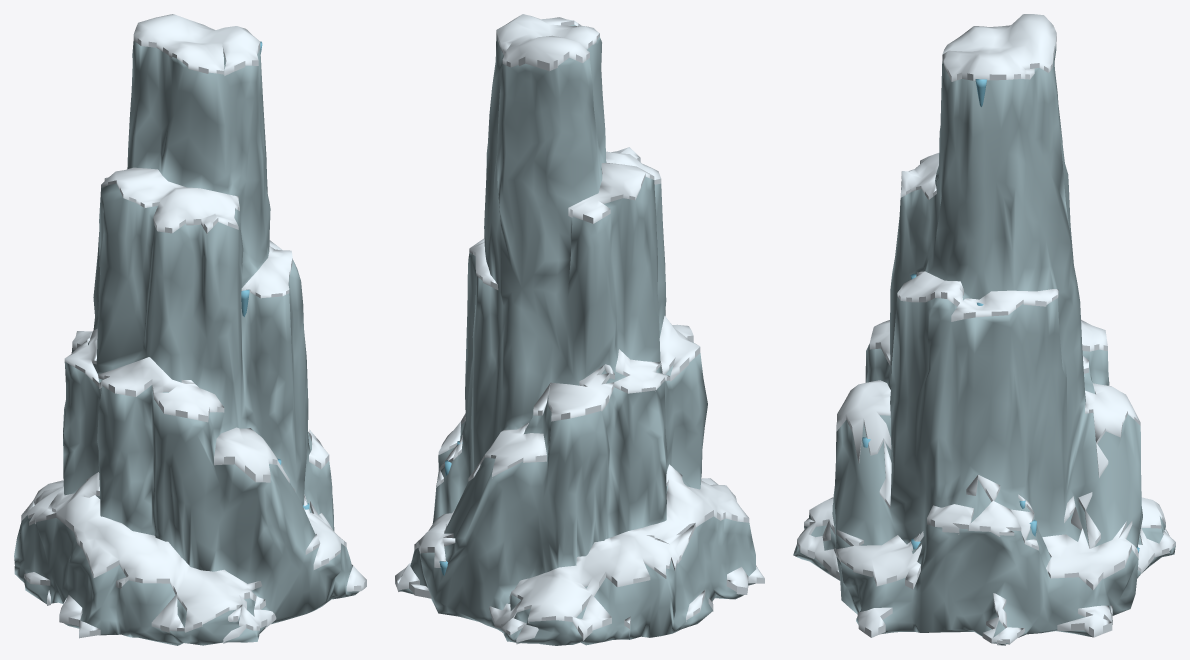
File: SecondRoom_IceColumn.fbx
3 renders of one model, left to right at view 1: azimuth 30°, elevation 25°; view 2: azimuth 150°, elevation 25°; view 3: azimuth 270°, elevation 25°, orthographic. The views are drawn at different scales.
Visible parts, largest first — view 1: SecondRoom_IceColumn_LOD0; view 2: SecondRoom_IceColumn_LOD0; view 3: SecondRoom_IceColumn_LOD0.
Part boxes in pixels (x1,y1,x2,y2): SecondRoom_IceColumn_LOD0: (14,14,366,645); SecondRoom_IceColumn_LOD0: (395,14,764,645); SecondRoom_IceColumn_LOD0: (793,14,1175,645).
Size of what is drawn, in the model's own units: 3.39 by 6.09 by 3.78.
